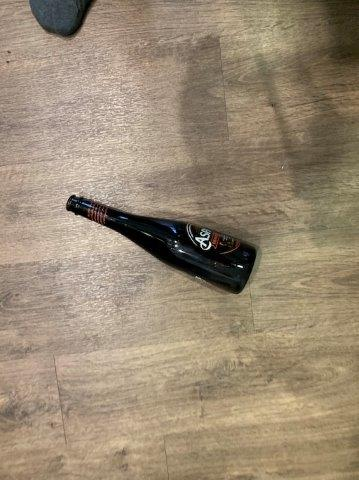botolkaca: (65, 194, 258, 294)
